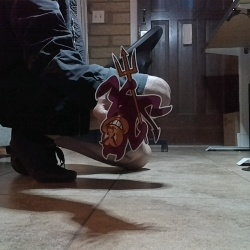sparky: (94, 44, 173, 161)
